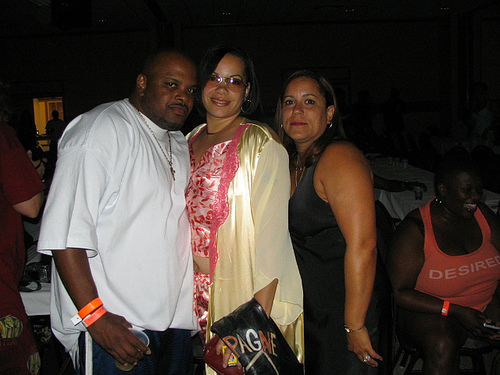without_mask: (136, 53, 198, 129), (277, 79, 336, 142), (197, 57, 251, 121), (434, 159, 489, 220)
